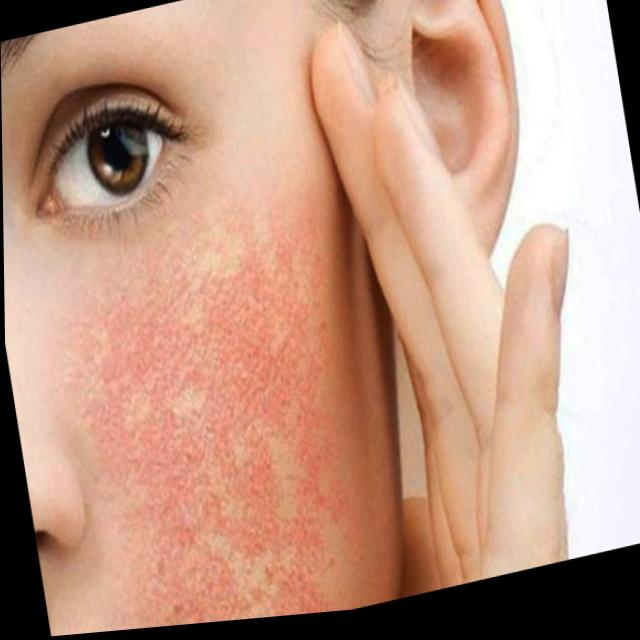skinredness: (29, 177, 399, 638)
